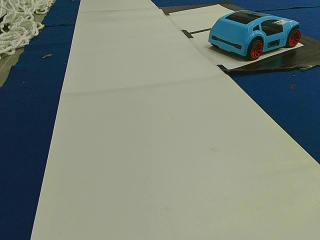car: (209, 11, 300, 60)
